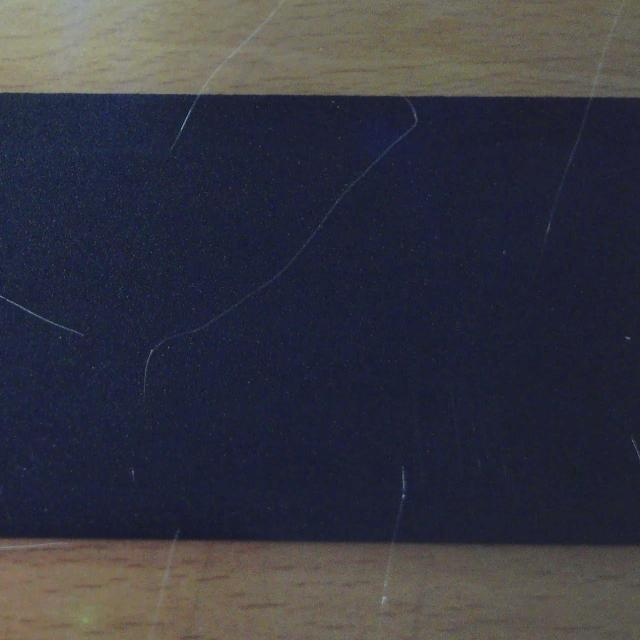defect: (138, 97, 418, 403), (539, 98, 599, 242), (0, 283, 88, 342), (160, 94, 209, 156), (383, 460, 419, 542), (624, 428, 640, 469), (169, 527, 194, 539)
